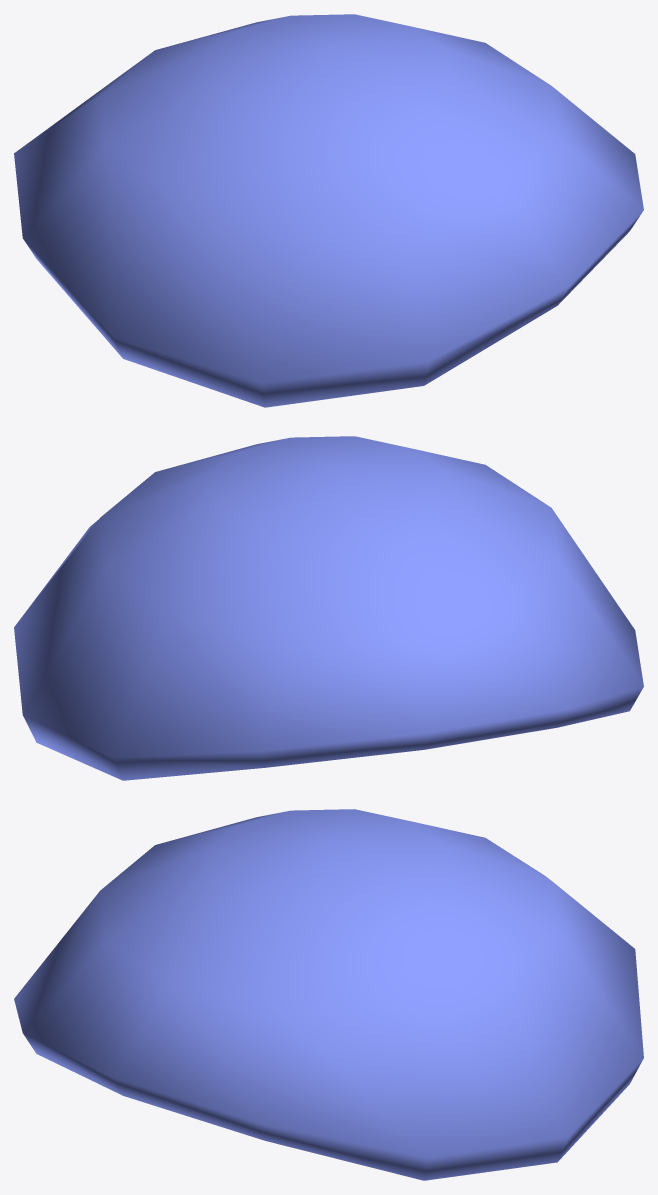
File: Rayceiver_Top.fbx
3 renders of one model, top to bottom at view 1: azimuth 30°, elevation 25°; view 2: azimuth 150°, elevation 25°; view 3: azimuth 270°, elevation 25°, orthographic.
Visible parts, largest first — view 1: Rayceiver_Top; view 2: Rayceiver_Top; view 3: Rayceiver_Top.
Boxes of the visible parts, box(x1,y1,x2,y2) form: Rayceiver_Top: box(14, 14, 643, 407); Rayceiver_Top: box(14, 436, 643, 780); Rayceiver_Top: box(14, 809, 643, 1180).
Size of the model in its own units: 96.47 by 40.02 by 96.47.
